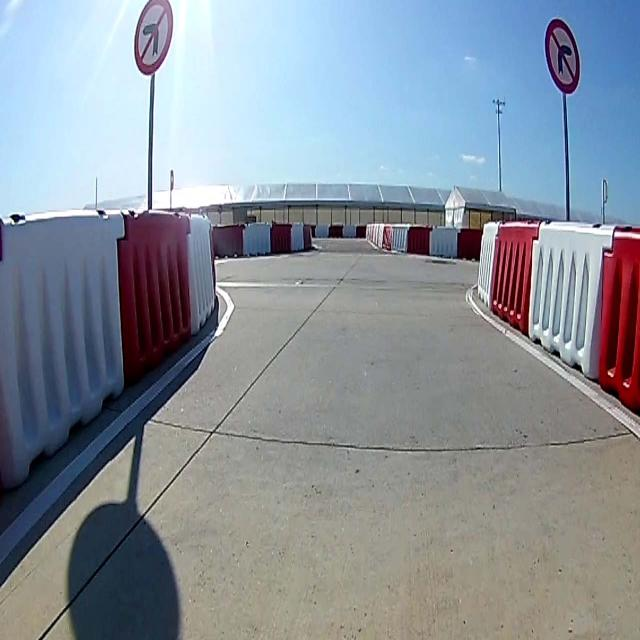sagadonulmez: (545, 20, 580, 94)
soladonulmez: (133, 2, 171, 76)
